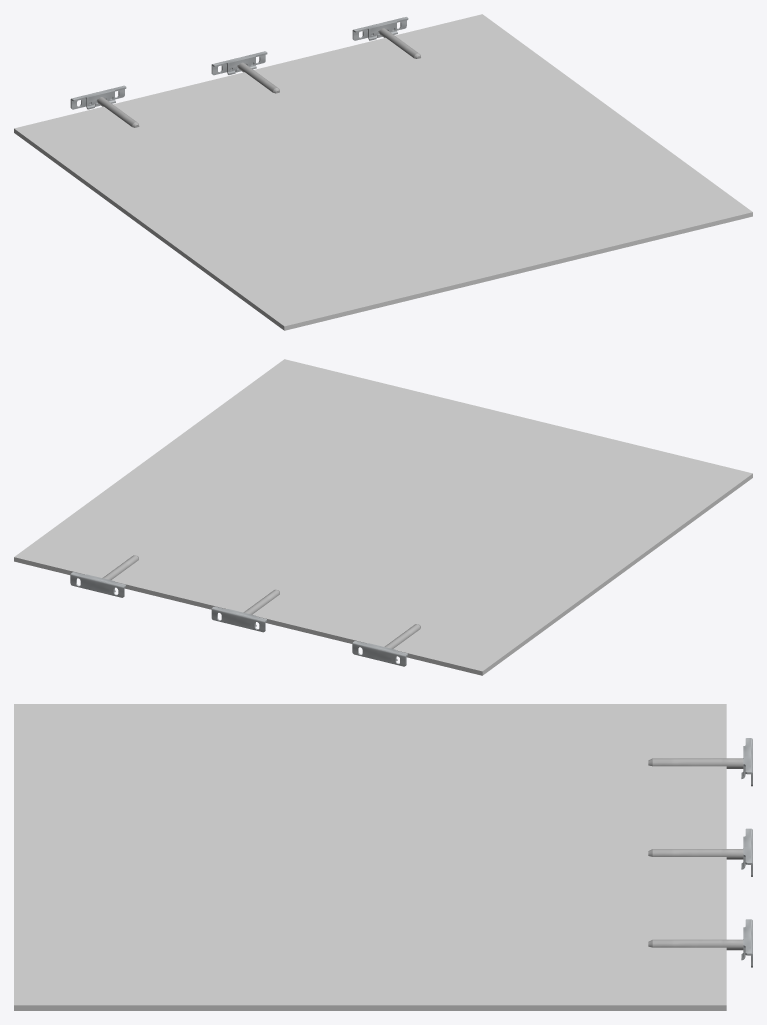
File: Platte.gltf
3 renders of one model, top to bottom at view 1: azimuth 30°, elevation 25°; view 2: azimuth 150°, elevation 25°; view 3: azimuth 270°, elevation 25°, orthographic. The views are drawn at different scales.
Visible parts, largest first — view 1: Platte, y3cv970pq2bg.001, y3cv970pq2bg, y3cv970pq2bg.002; view 2: Platte, y3cv970pq2bg.001, y3cv970pq2bg.002, y3cv970pq2bg; view 3: Platte, y3cv970pq2bg.001, y3cv970pq2bg, y3cv970pq2bg.002.
Part boxes in pixels (x1=…): Platte: x1=14, y1=14, x2=752, y2=330; y3cv970pq2bg.001: x1=352, y1=17, x2=420, y2=58; y3cv970pq2bg: x1=70, y1=85, x2=139, y2=127; y3cv970pq2bg.002: x1=211, y1=51, x2=279, y2=93; Platte: x1=14, y1=359, x2=752, y2=675; y3cv970pq2bg.001: x1=70, y1=555, x2=138, y2=597; y3cv970pq2bg.002: x1=211, y1=589, x2=279, y2=632; y3cv970pq2bg: x1=352, y1=624, x2=420, y2=666; Platte: x1=14, y1=704, x2=726, y2=1010; y3cv970pq2bg.001: x1=648, y1=919, x2=752, y2=967; y3cv970pq2bg: x1=648, y1=738, x2=752, y2=786; y3cv970pq2bg.002: x1=648, y1=828, x2=752, y2=876.
Bounding box in the file's own units: 2 × 0.0465 × 2.07.
3 materials, 2 textured.
